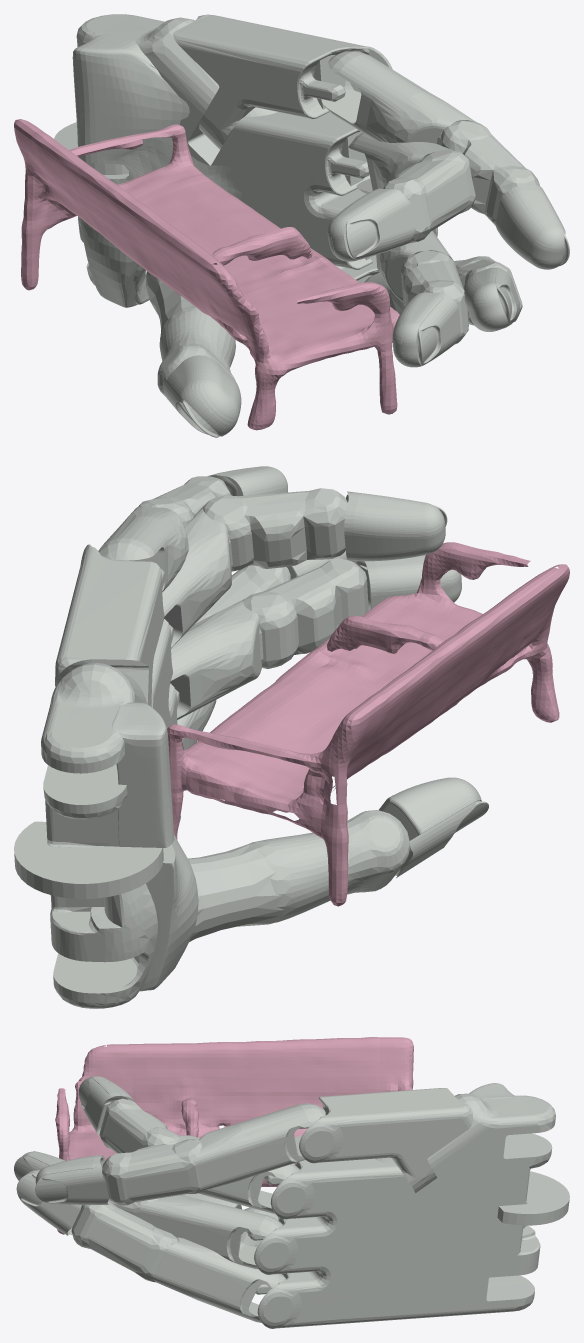
3 renders of one model, top to bottom at view 1: azimuth 30°, elevation 25°; view 2: azimuth 150°, elevation 25°; view 3: azimuth 270°, elevation 25°, orthographic. The views are drawn at different scales.
Visible parts, largest first — view 1: hand_isaac_q, world; view 2: hand_isaac_q, world; view 3: hand_isaac_q, world.
Part boxes in pixels (box(x1,y1,x2,y2)): hand_isaac_q: box(54, 14, 569, 437); world: box(14, 119, 399, 430); hand_isaac_q: box(14, 466, 488, 1008); world: box(167, 542, 569, 906); hand_isaac_q: box(14, 1076, 569, 1328); world: box(55, 1037, 413, 1234).
Size of the model in its own units: 0.1138 by 0.0952 by 0.2022.
